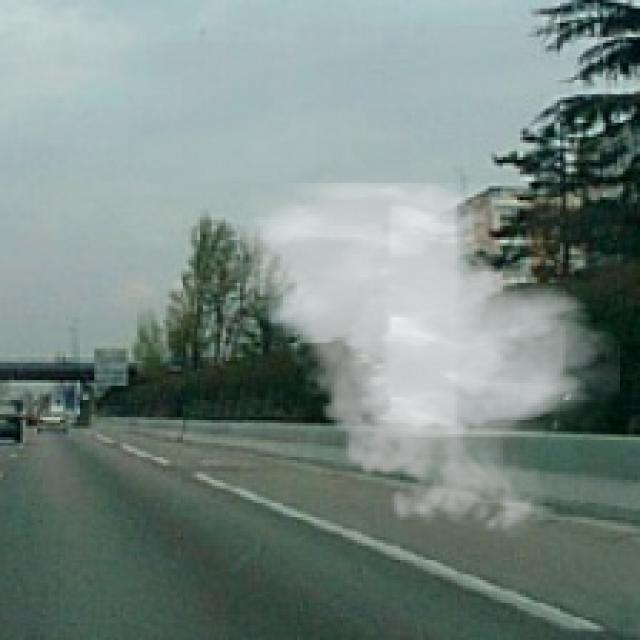smoke: (226, 183, 620, 543)
